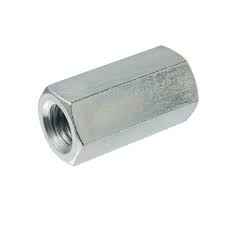Thread: (39, 97, 82, 158)
